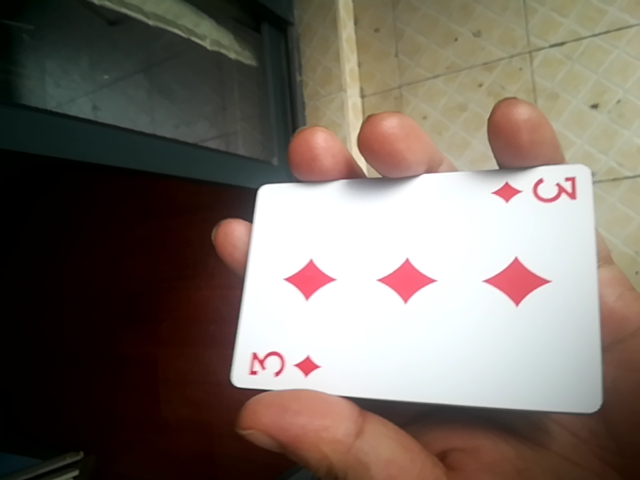fk 3: (228, 162, 612, 419)
